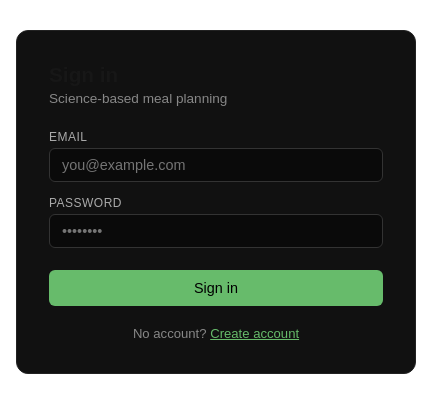
Test: SignInPage › failed sign-in › falls back to default message when error.message is absent
This screenshot has width=433, height=406.
In the field labelled "Email": [216, 165] box [49,148,383,182], type "a@b.com"
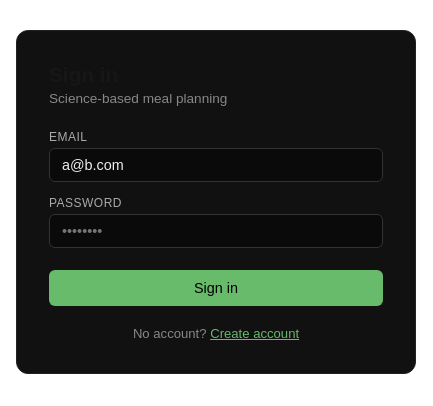
In the password field labelled "Password": [216, 231] box [49,214,383,248], type "pass"
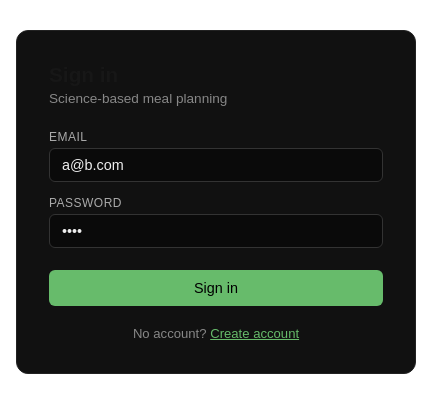
Submit the form "Email Password Sign in", box [49,130,383,306]
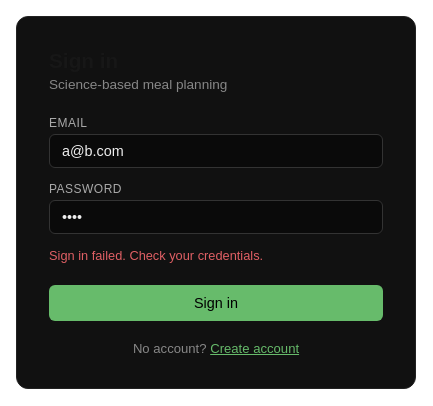
Result: the text "Sign in failed. Check your credentials." is shown at [49,248,263,262]
